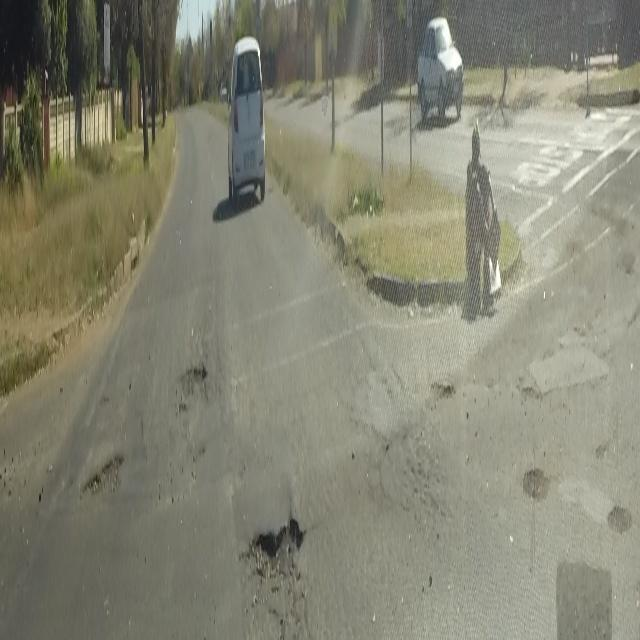pothole: (238, 510, 306, 590), (76, 452, 123, 504), (521, 457, 552, 510), (177, 364, 210, 404), (610, 494, 630, 539), (428, 374, 454, 401), (594, 432, 609, 460), (520, 380, 538, 401)
